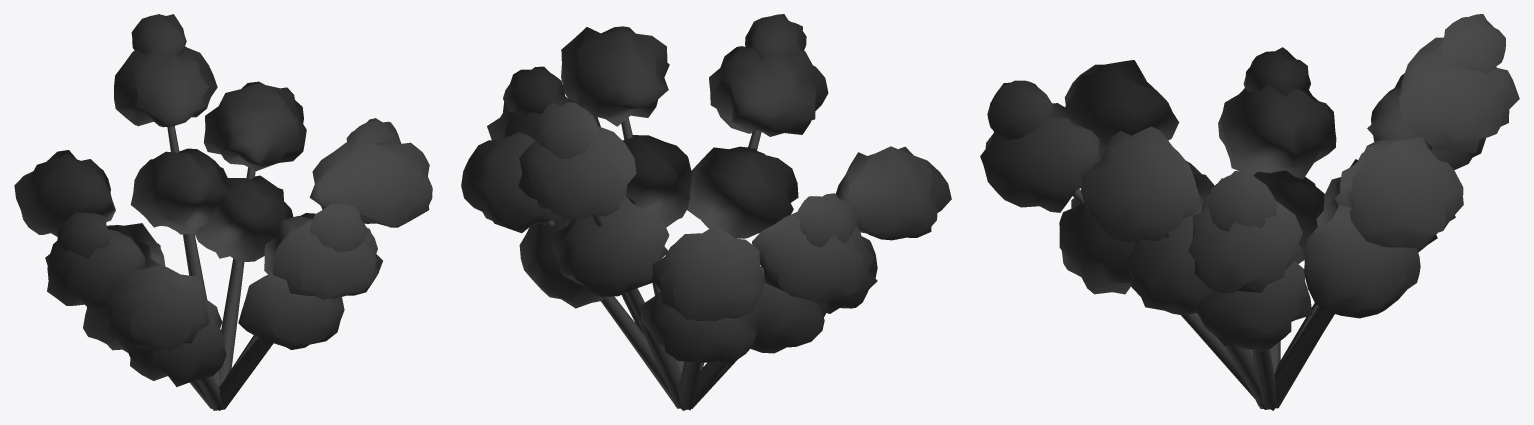
File: taiga_dogrose.glb
3 renders of one model, left to right at view 1: azimuth 30°, elevation 25°; view 2: azimuth 150°, elevation 25°; view 3: azimuth 270°, elevation 25°, orthographic. The views are drawn at different scales.
Parts seen in each view (by area): view 1: foliage, bark; view 2: foliage, bark; view 3: foliage, bark.
Part boxes in pixels (x1,y1,x2,y2): foliage: (14, 14, 432, 386); bark: (167, 126, 273, 410); foliage: (461, 14, 951, 365); bark: (544, 117, 860, 410); foliage: (980, 14, 1519, 351); bark: (1073, 141, 1432, 410).
Bounding box in the file's own units: 1.96 × 1.79 × 2.15.
1 material, 1 textured.
